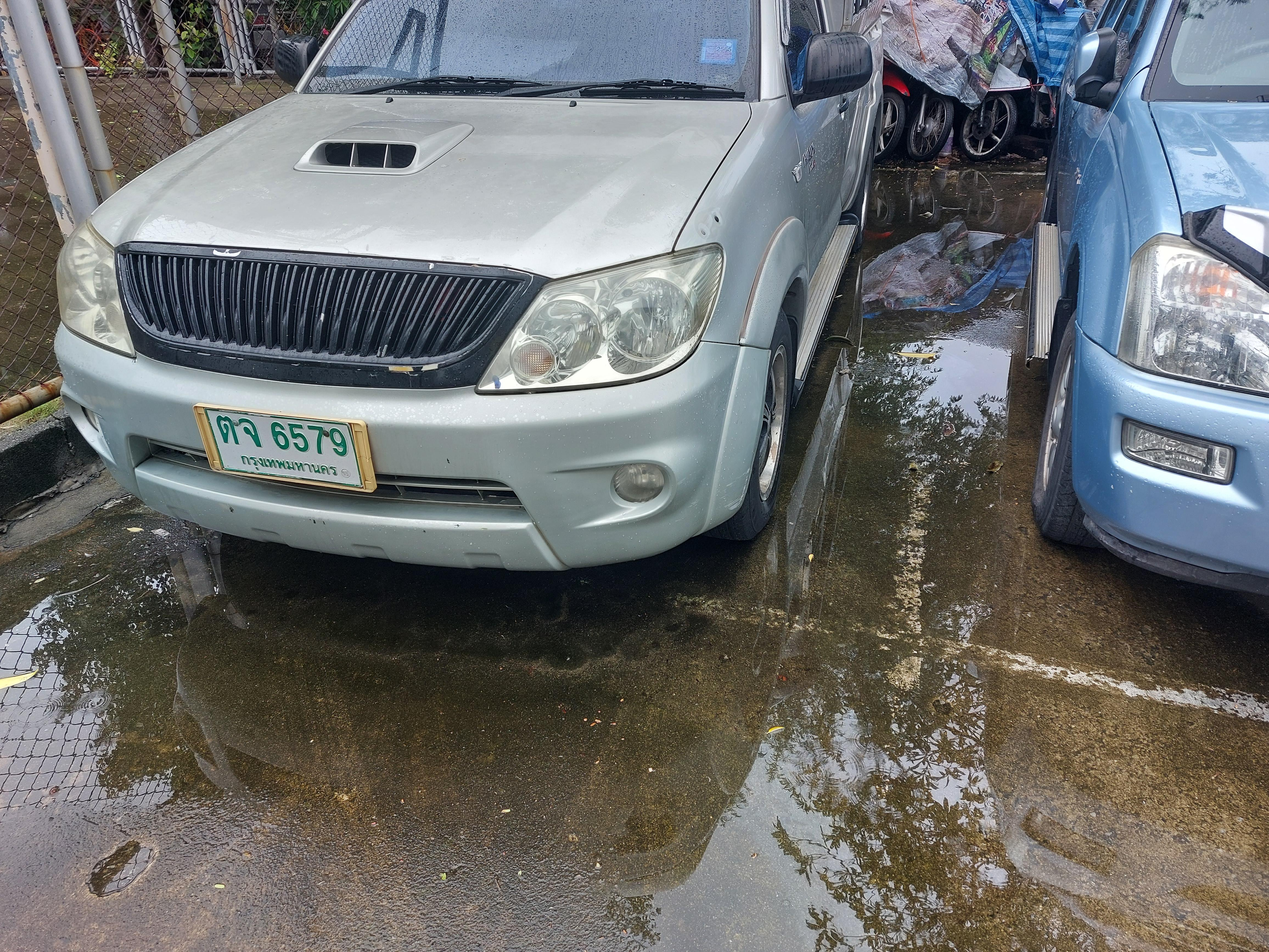license-plate: (191, 399, 383, 495)
